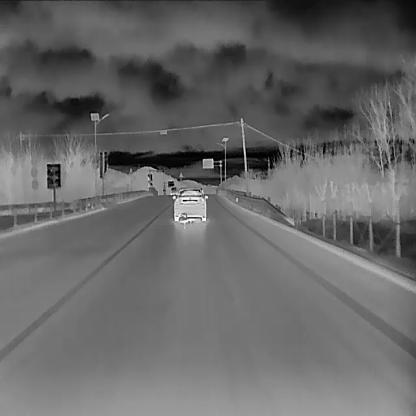car: (171, 186, 209, 221), (170, 187, 178, 195)
